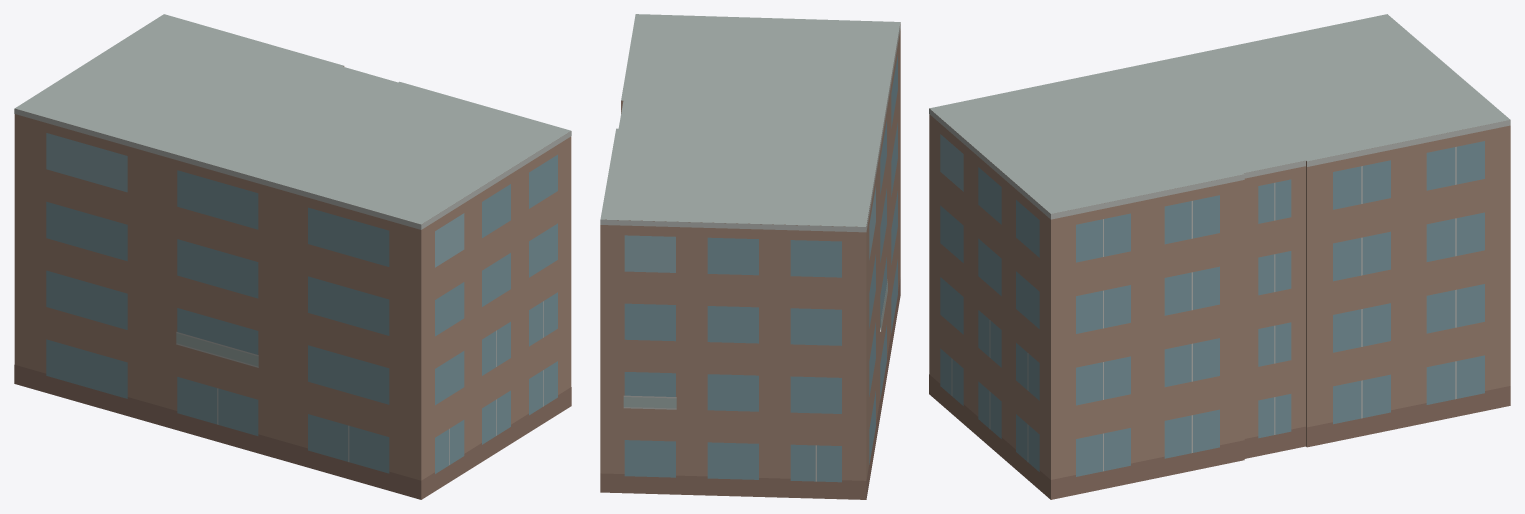
File: survey-upis-32493687.glb
3 renders of one model, left to right at view 1: azimuth 30°, elevation 25°; view 2: azimuth 150°, elevation 25°; view 3: azimuth 270°, elevation 25°, orthographic. The views are drawn at different scales.
Visible parts, largest first — view 1: survey-upis-32493687.tmp; view 2: survey-upis-32493687.tmp; view 3: survey-upis-32493687.tmp.
Part boxes in pixels (x1=…): survey-upis-32493687.tmp: x1=14, y1=14, x2=571, y2=499; survey-upis-32493687.tmp: x1=600, y1=14, x2=900, y2=499; survey-upis-32493687.tmp: x1=929, y1=14, x2=1510, y2=499.
Bounding box in the file's own units: 18.77 × 12.5 × 23.06.
